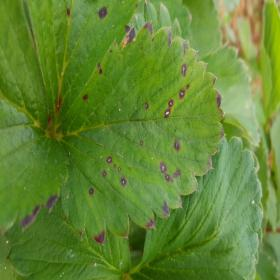Leaf Spot: (53, 20, 225, 246), (26, 0, 140, 129)
